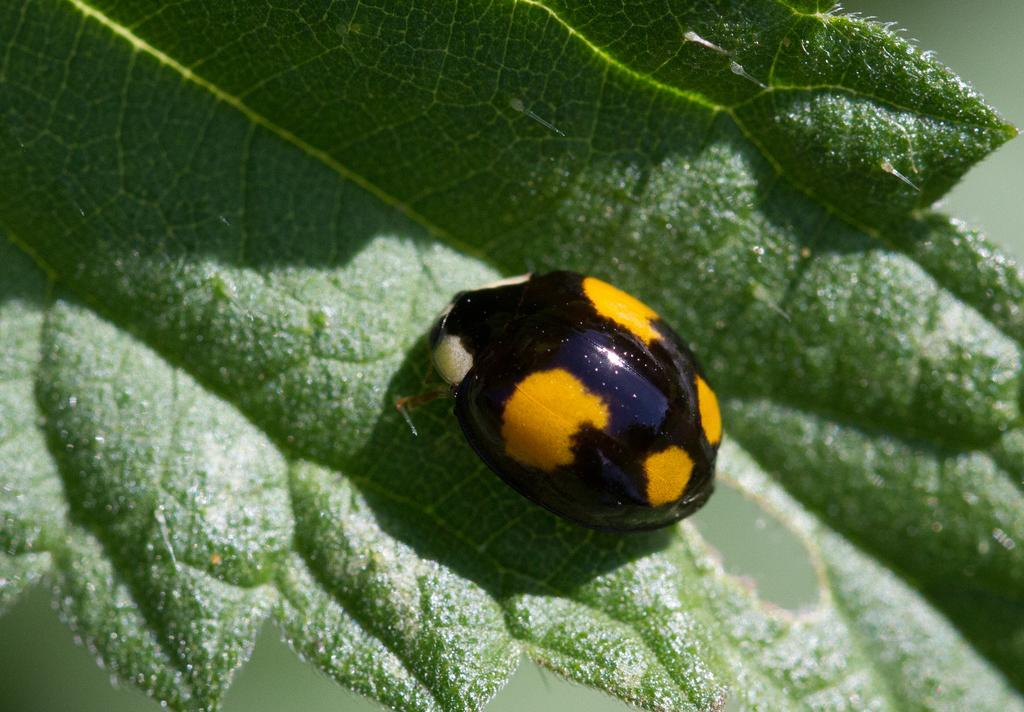ladybug: (401, 263, 731, 541)
